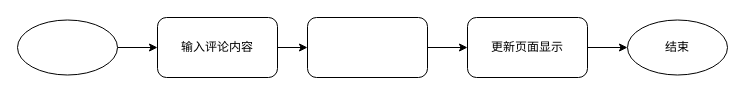
This 745x95 diagram has some shape labels left out. The shapes that lost their labels are listed below. From the top down, each one's box as (x1, y1, x2, y2) in pixels, then its label:
(16, 19, 118, 75): 开始
(306, 16, 428, 78): 点击发布评论
